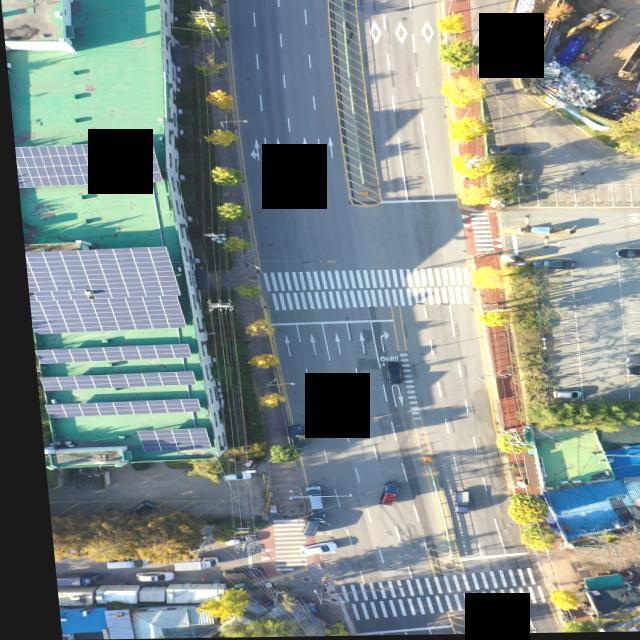car: (288, 514, 321, 537), (291, 487, 319, 512), (111, 501, 148, 518), (523, 260, 569, 272), (93, 558, 141, 569), (205, 570, 252, 581), (288, 544, 325, 557), (483, 146, 525, 156), (377, 361, 394, 384), (208, 472, 247, 482), (308, 384, 327, 404), (211, 536, 242, 547), (611, 250, 640, 261), (126, 573, 163, 581), (544, 391, 573, 401), (620, 367, 640, 379), (618, 356, 640, 366)
small_truck: (160, 558, 209, 572), (365, 483, 393, 507), (44, 574, 89, 587), (278, 425, 298, 449), (443, 492, 460, 515)
